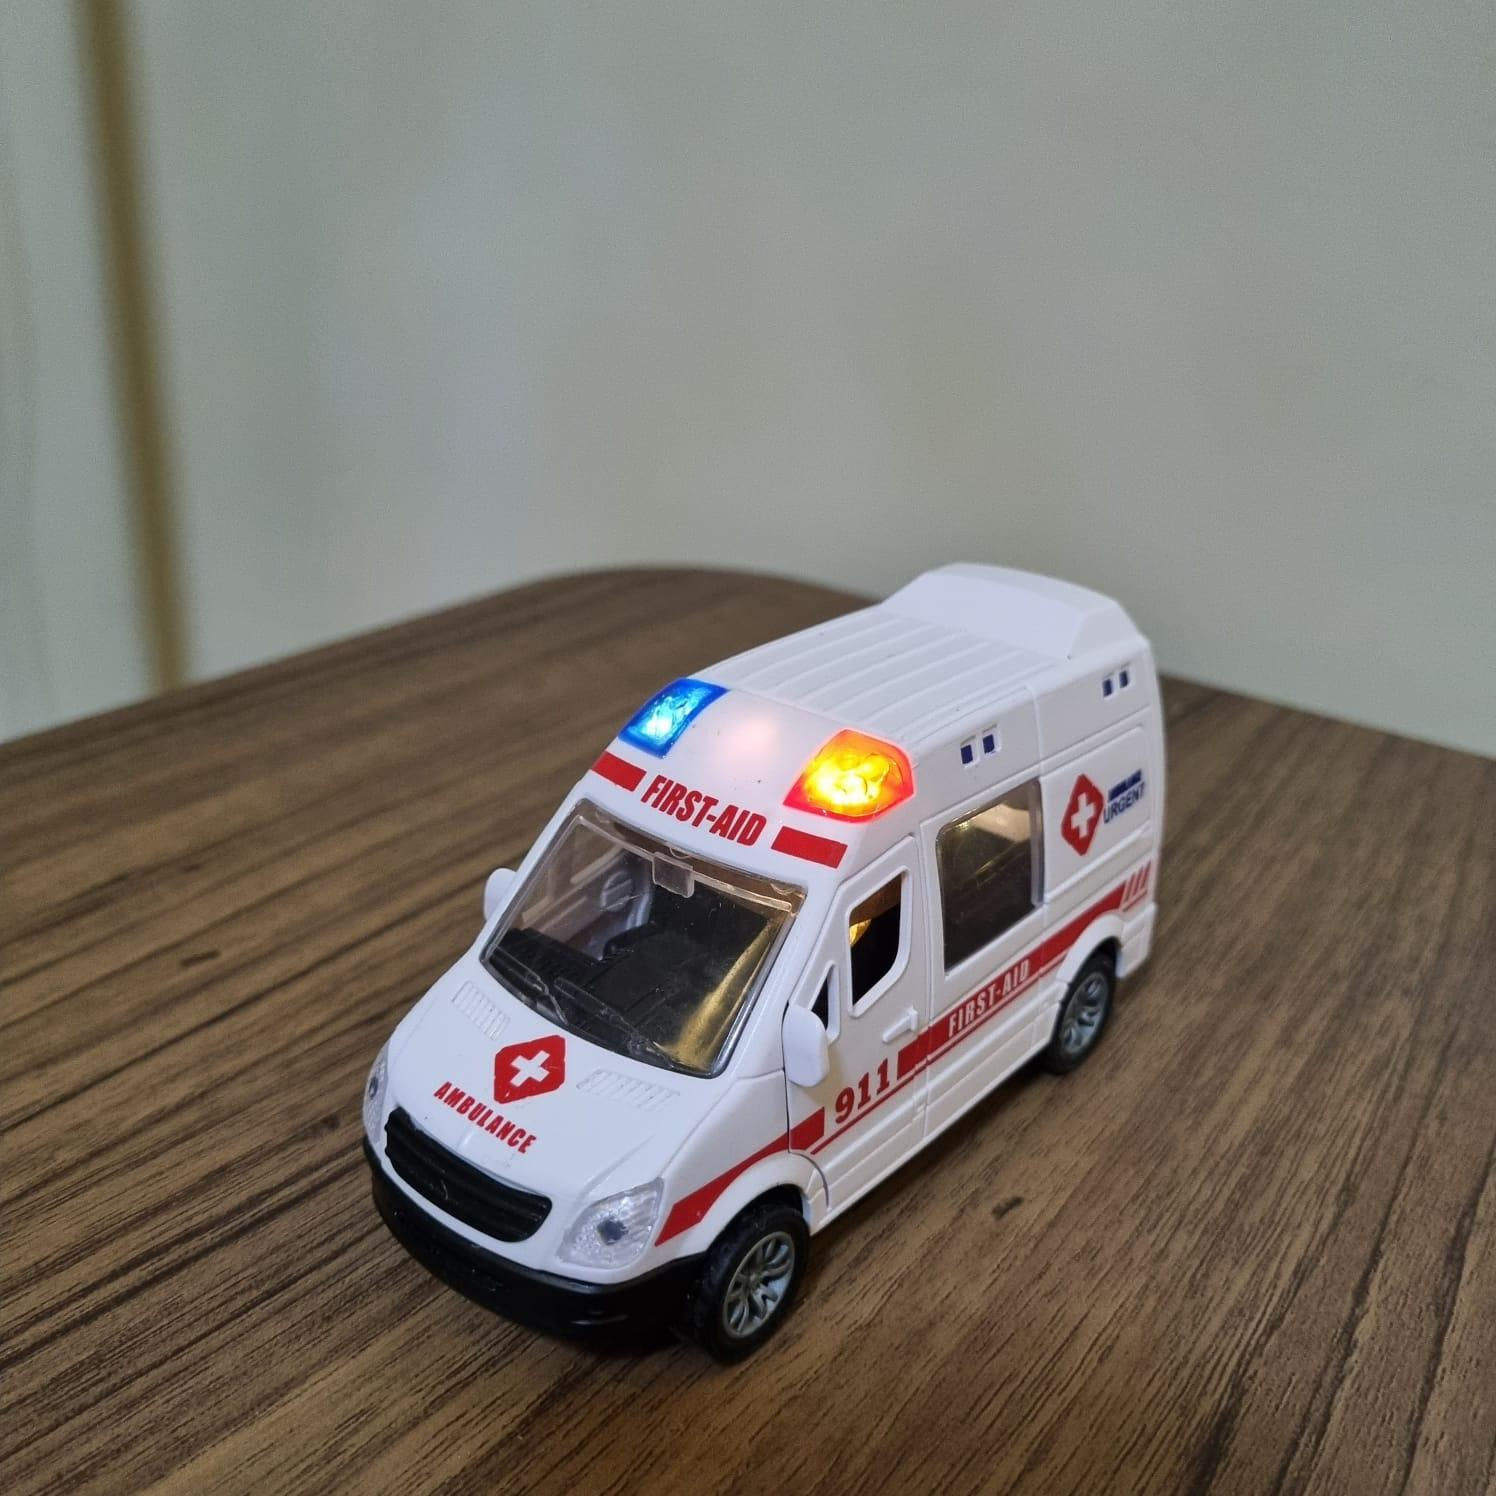ambulance_on: (358, 563, 1164, 1363)
